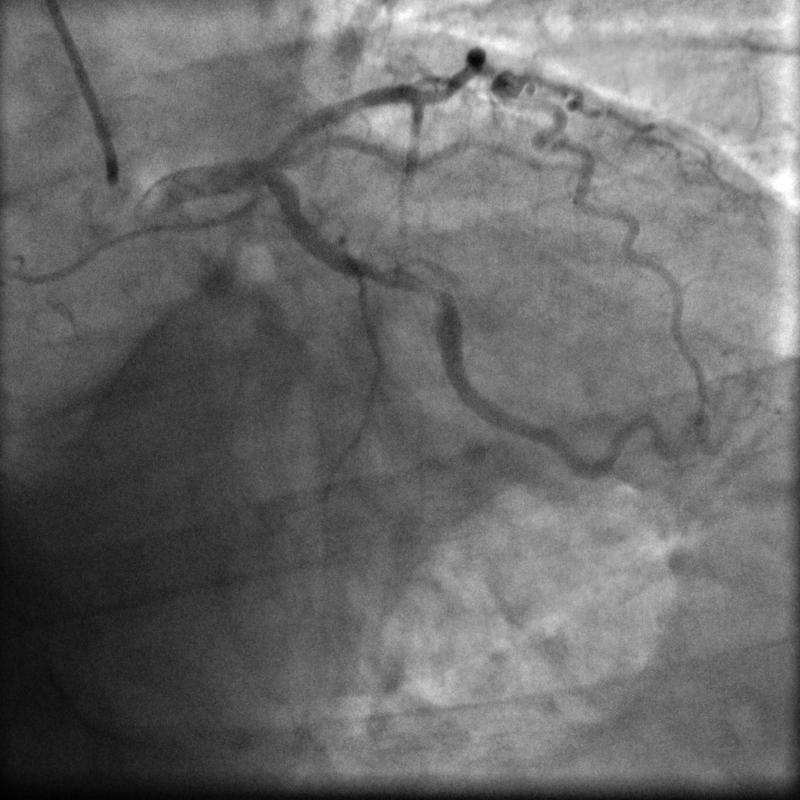Stenosis: (393, 270, 451, 308)
